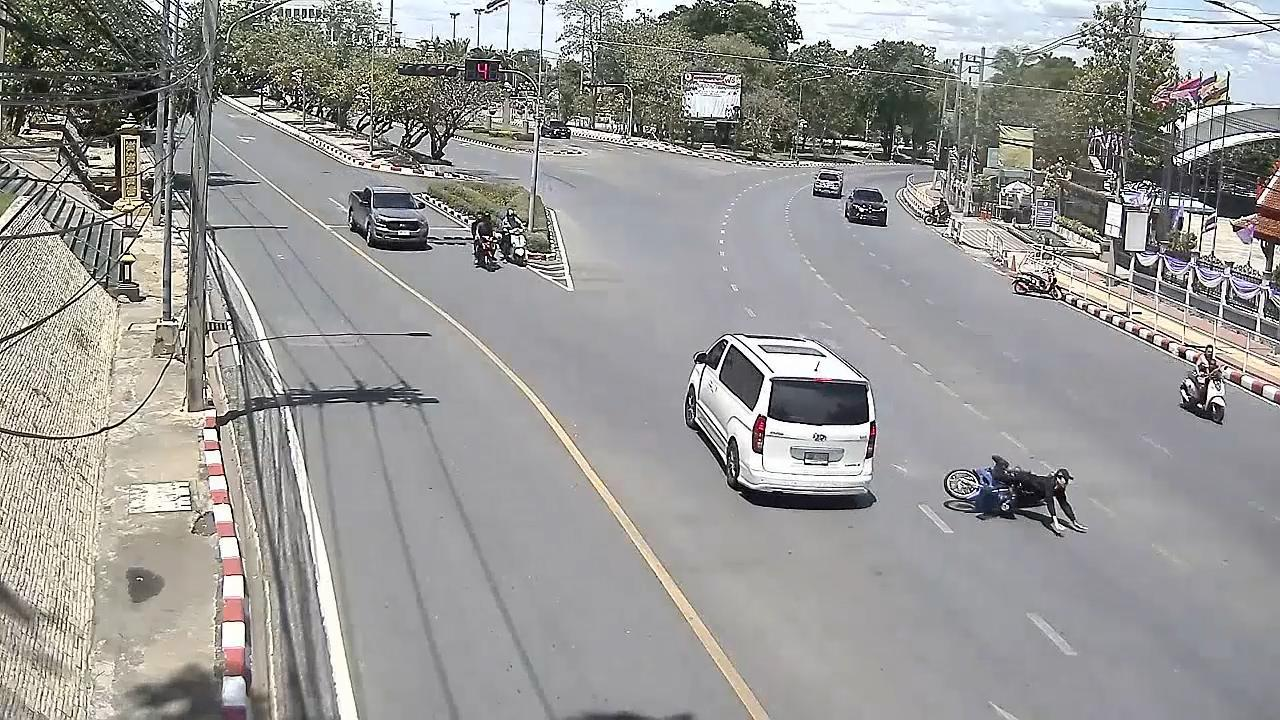accident: (1006, 466, 1087, 532)
